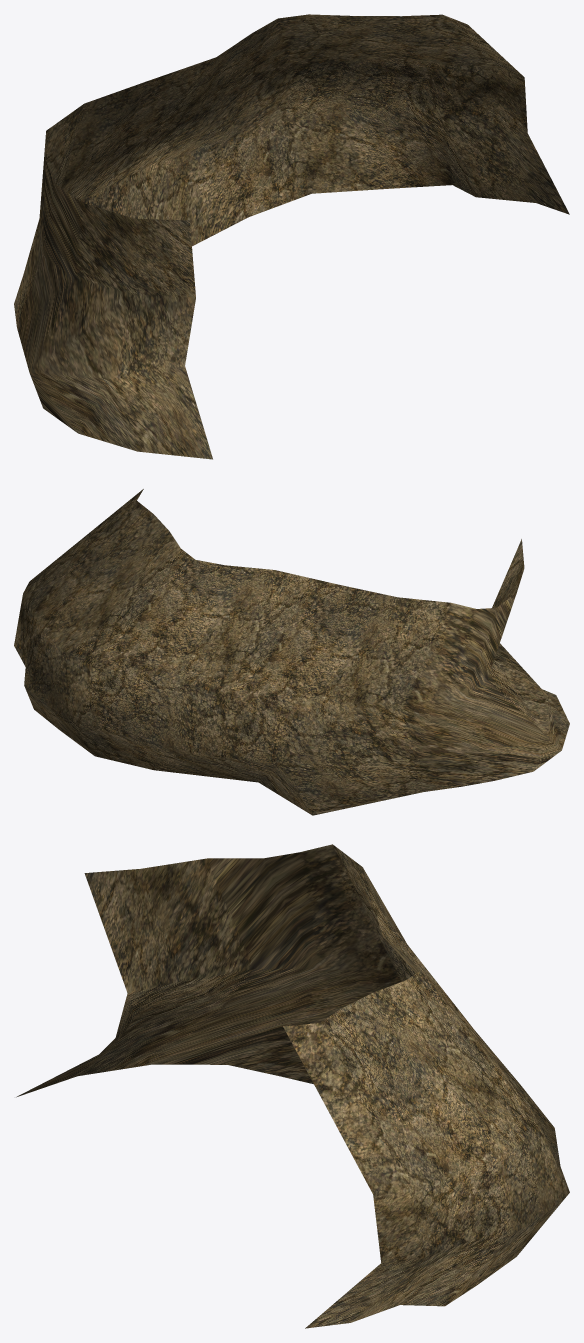
File: CH09_SMAUG_PLAYSURFACE_LONELYMOUNTAIN_LM_PLAYSURFACE19.fbx
The picture shows the model from 3 angles, top to bottom: view 1: azimuth 30°, elevation 25°; view 2: azimuth 150°, elevation 25°; view 3: azimuth 270°, elevation 25°; orthographic projection. The views are drawn at different scales.
Visible parts, largest first — view 1: CH09_SMAUG_PLAYSURFACE_LONELYMOUNTAIN_LM_PLAYSURFACE19; view 2: CH09_SMAUG_PLAYSURFACE_LONELYMOUNTAIN_LM_PLAYSURFACE19; view 3: CH09_SMAUG_PLAYSURFACE_LONELYMOUNTAIN_LM_PLAYSURFACE19.
Part boxes in pixels (x1,y1,x2,y2): CH09_SMAUG_PLAYSURFACE_LONELYMOUNTAIN_LM_PLAYSURFACE19: (14,14,569,459); CH09_SMAUG_PLAYSURFACE_LONELYMOUNTAIN_LM_PLAYSURFACE19: (14,489,569,815); CH09_SMAUG_PLAYSURFACE_LONELYMOUNTAIN_LM_PLAYSURFACE19: (16,844,569,1328).
Bounding box in the file's own units: 424657 × 179050 × 327191.
Materials: 1 (1 with a texture image).
